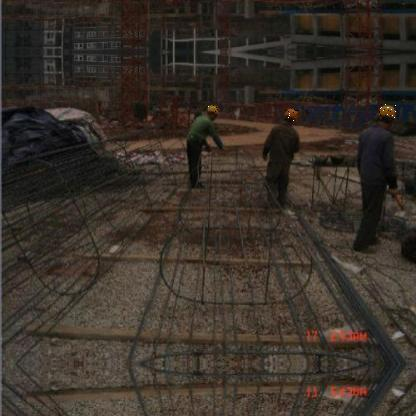safetyhelmet: (377, 104, 399, 120), (286, 108, 301, 122), (206, 104, 219, 116)
